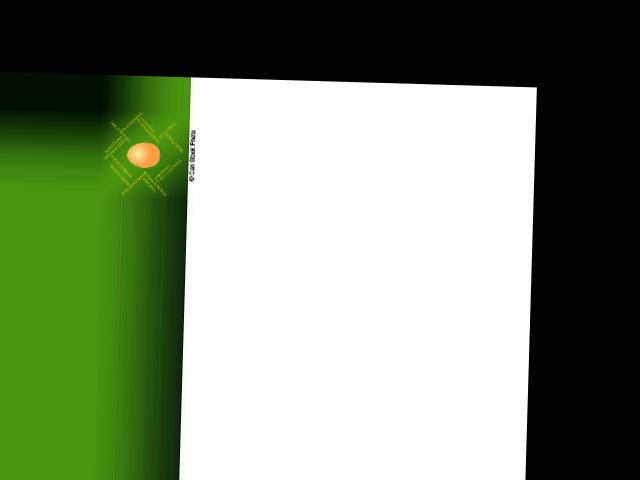egg: (126, 141, 160, 167)
